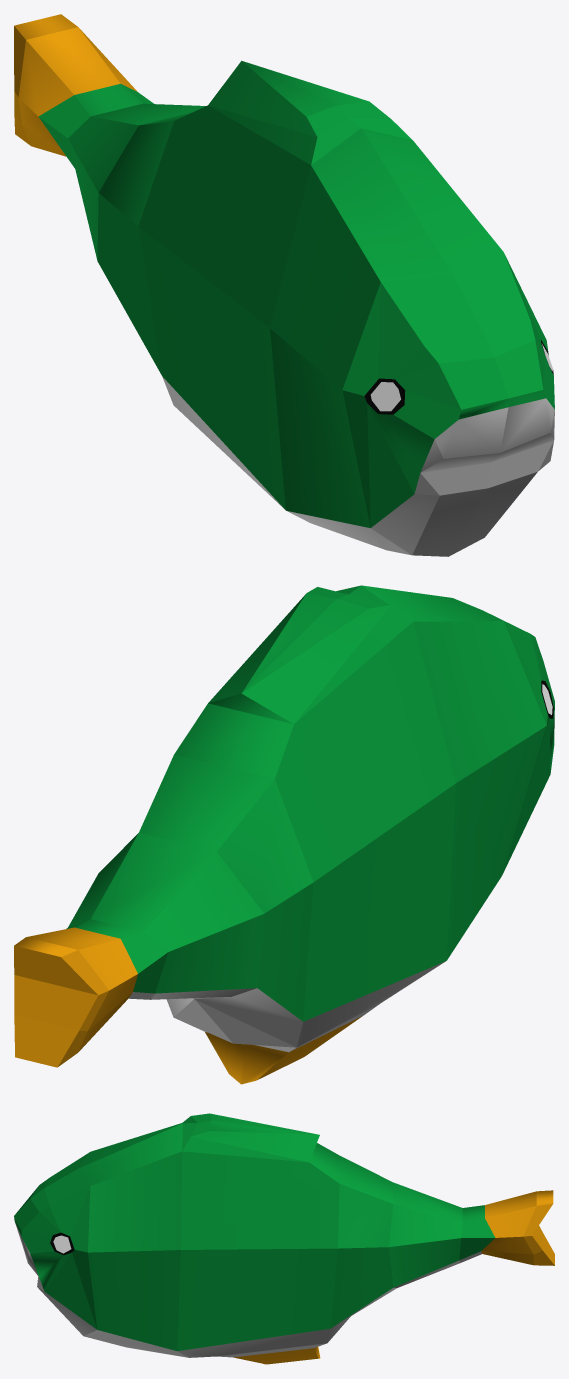
File: Fish-1b.fbx
The picture shows the model from 3 angles, top to bottom: view 1: azimuth 30°, elevation 25°; view 2: azimuth 150°, elevation 25°; view 3: azimuth 270°, elevation 25°; orthographic projection. The views are drawn at different scales.
Parts seen in each view (by area): view 1: Fish-1; view 2: Fish-1; view 3: Fish-1.
Boxes of the visible parts, x1,y1,x2,y2 form: Fish-1: (14, 14, 554, 556); Fish-1: (14, 585, 554, 1084); Fish-1: (14, 1113, 554, 1364).
Bounding box in the file's own units: 0.2252 × 0.4485 × 0.9027.
